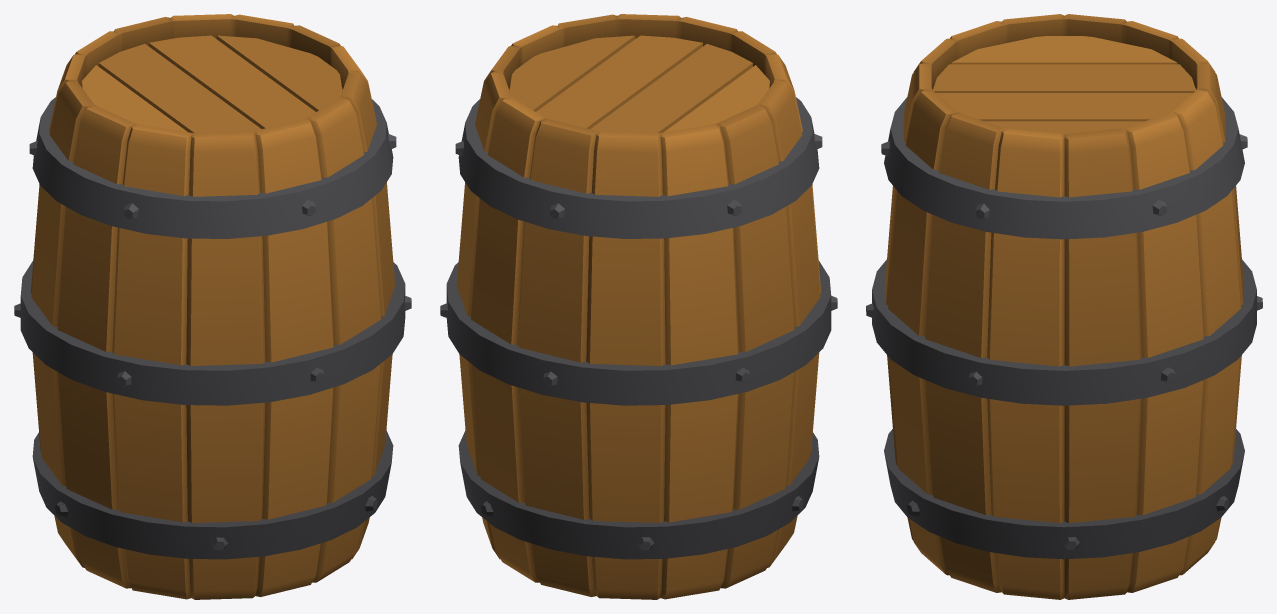
The model's file is barrel.glb.
3 views of the same model, side by side, from view 1: azimuth 30°, elevation 25°; view 2: azimuth 150°, elevation 25°; view 3: azimuth 270°, elevation 25° (orthographic).
Visible parts, largest first — view 1: barrel; view 2: barrel; view 3: barrel.
Part boxes in pixels (x1,y1,x2,y2): barrel: [14, 14, 411, 599]; barrel: [440, 14, 837, 599]; barrel: [866, 14, 1262, 599].
Size of the model in its own units: 0.6814 by 0.9 by 0.7021.
